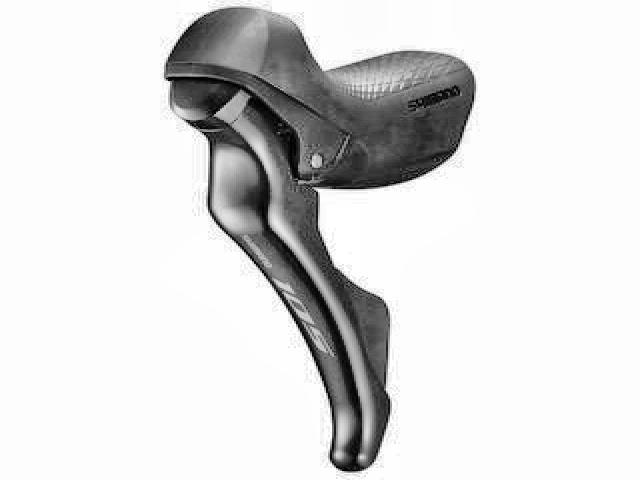sti_shifter: (158, 6, 468, 472)
